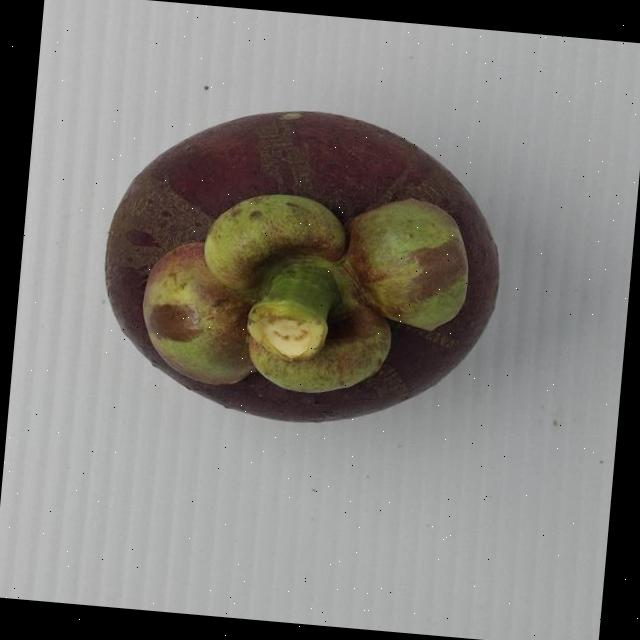mangosteen: (29, 32, 573, 492)
